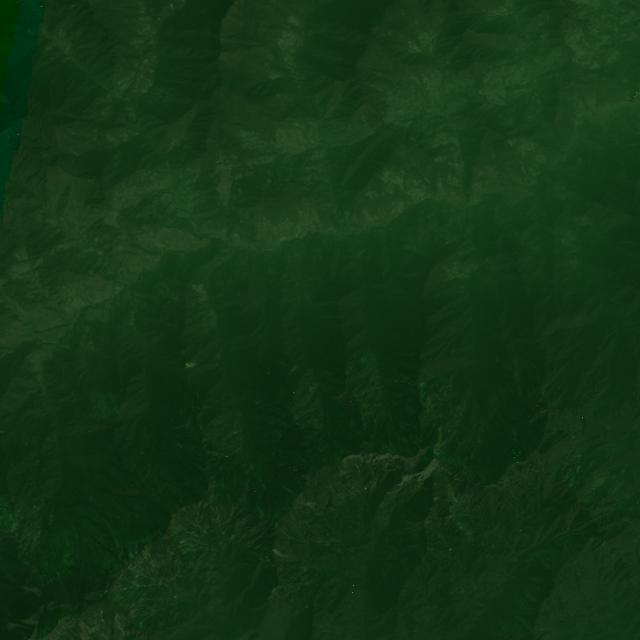landslides: (277, 482, 298, 498), (359, 340, 374, 361), (56, 18, 67, 41), (185, 358, 205, 368), (371, 85, 392, 94), (44, 43, 56, 58), (364, 209, 375, 225), (141, 547, 152, 563), (290, 361, 305, 372), (274, 549, 292, 557), (269, 71, 287, 79), (116, 620, 123, 638)
